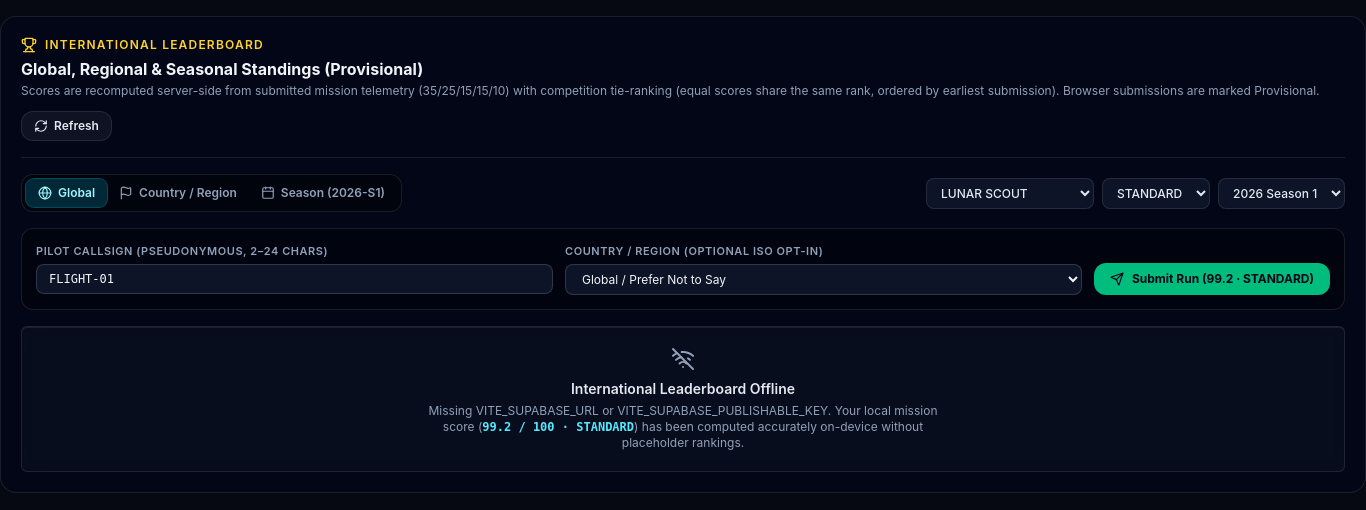
Test: React Component Tests — 6-Stage Shell, Advisory Decision, Planning Sheets & Leaderboard › renders International Leaderboard honestly in offline mode with config reason and no fake entries
The width and height of the screenshot is (1366, 510).
Later steps or results of the test are not shown.
Expected: the text "International Leaderboard Offline" is shown, [571,380,795,396]
Expected: the text "VITE_SUPABASE_URL" is shown, [428,402,831,418]
Click the button "Country / Region" at [178, 193], box [107,179,249,207]
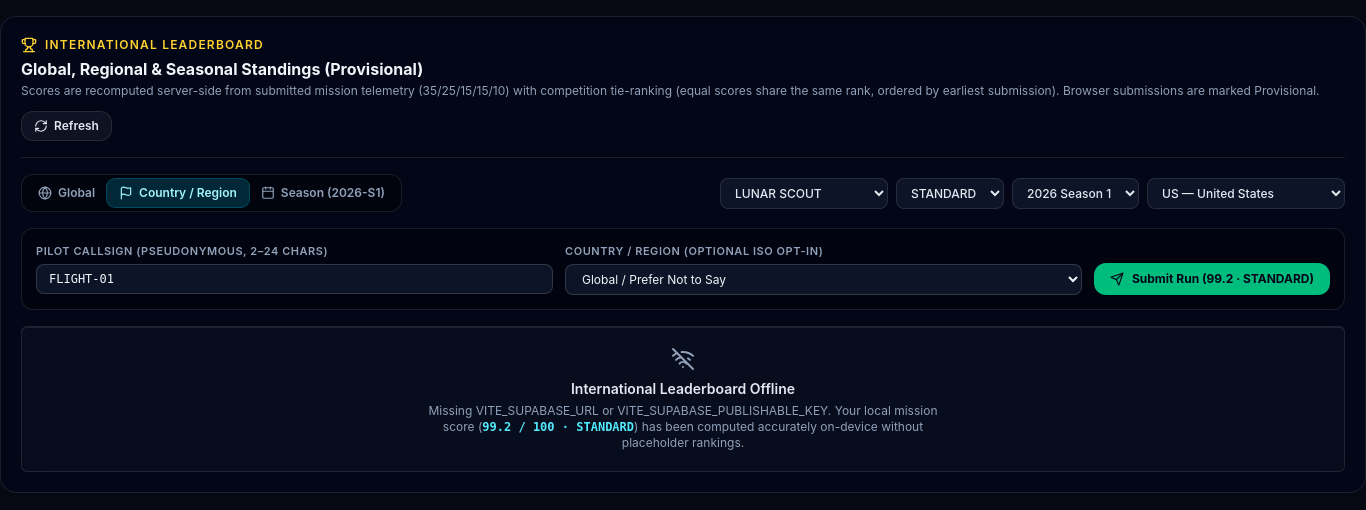
Result: the dropdown named "Filter country" is shown at [1147,178,1345,208]
